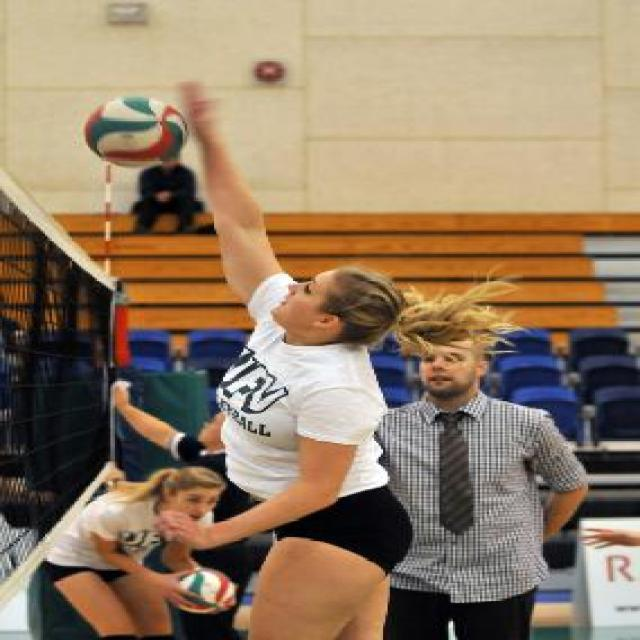volleyball: (84, 96, 186, 167), (178, 569, 236, 618)
